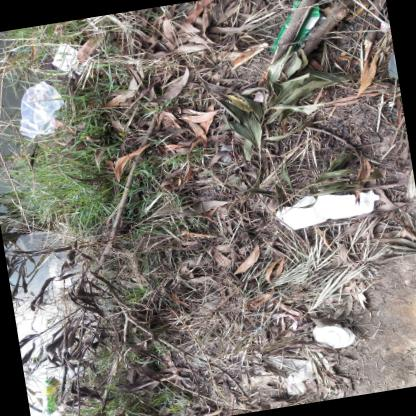Plastic: (269, 0, 326, 51), (19, 79, 63, 137), (262, 356, 314, 394), (312, 322, 354, 347), (48, 257, 72, 287), (271, 312, 300, 333), (40, 378, 56, 413), (13, 46, 58, 51), (379, 20, 390, 32), (254, 325, 263, 332), (45, 378, 51, 383)
Waste: (275, 187, 380, 229), (51, 41, 90, 77), (252, 90, 268, 102)
